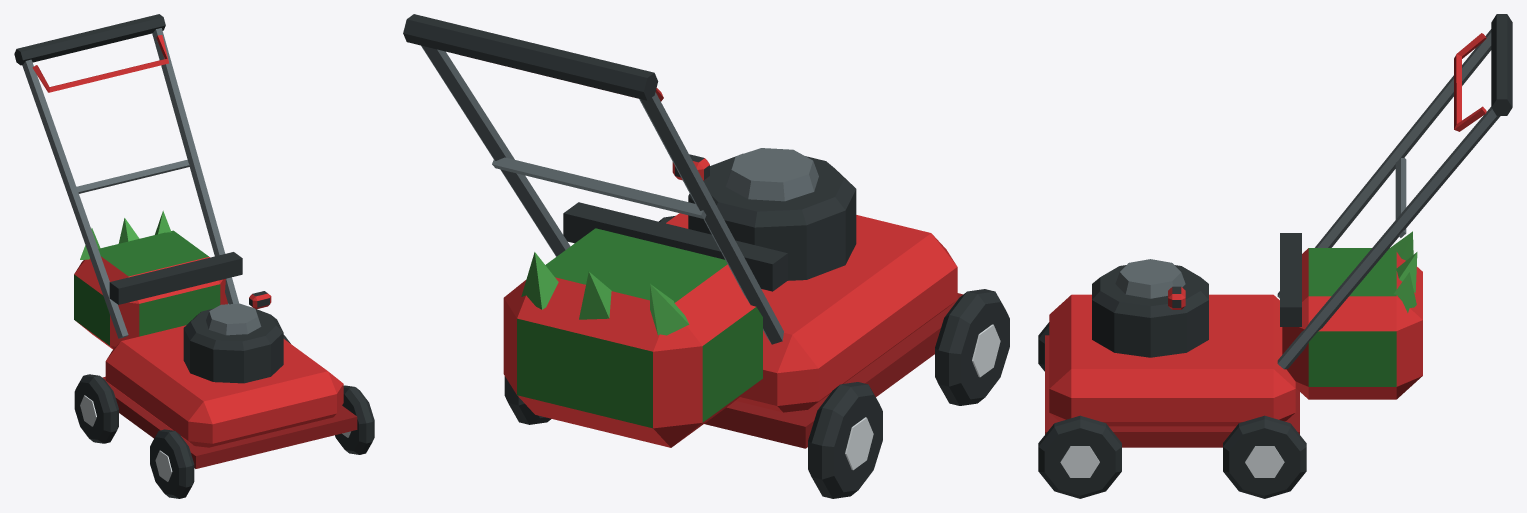
The model's file is rasenmaeher.glb.
The picture shows the model from 3 angles, left to right: view 1: azimuth 30°, elevation 25°; view 2: azimuth 150°, elevation 25°; view 3: azimuth 270°, elevation 25°; orthographic projection. The views are drawn at different scales.
Visible parts, largest first — view 1: rasenmaeher-m; view 2: rasenmaeher-m; view 3: rasenmaeher-m.
Boxes of the visible parts, x1,y1,x2,y2 form: rasenmaeher-m: [14, 14, 374, 498]; rasenmaeher-m: [403, 14, 1009, 498]; rasenmaeher-m: [1038, 14, 1512, 498].
Size of the model in its own units: 0.636 by 0.9708 by 1.08.
